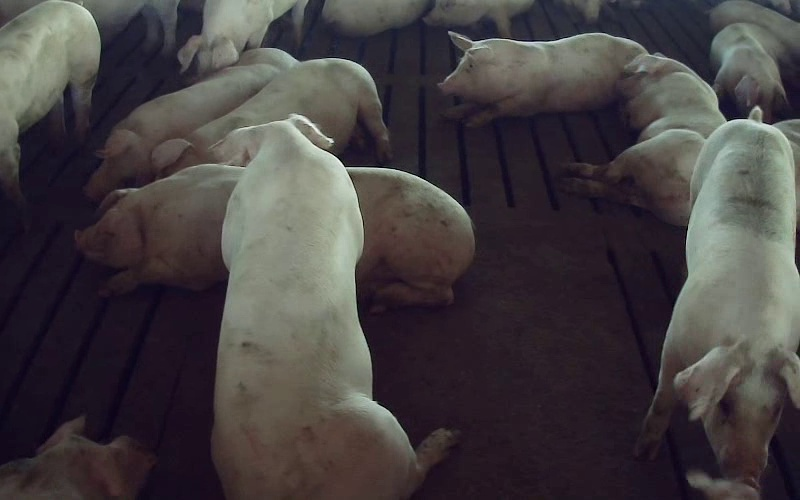pig: (212, 116, 455, 497), (635, 109, 799, 489), (85, 49, 296, 199), (151, 58, 390, 176), (565, 54, 724, 225), (0, 0, 99, 204), (439, 32, 646, 126), (177, 0, 307, 75), (710, 23, 791, 122), (709, 0, 799, 63)
